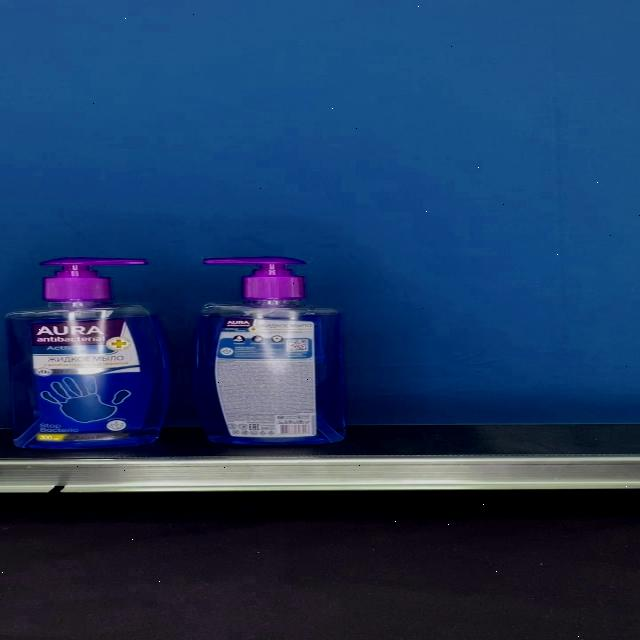Bottle: (4, 258, 170, 449), (193, 258, 347, 446)
Cap: (41, 258, 147, 300), (203, 258, 306, 300)
